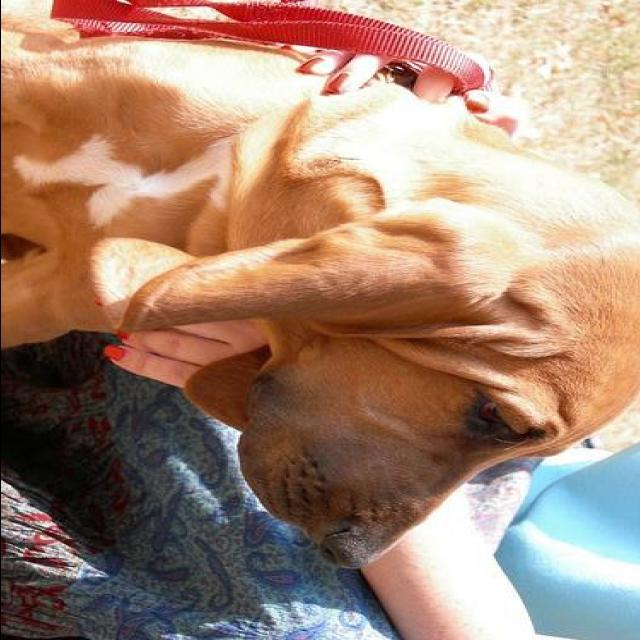bloodhound: (2, 9, 640, 575)
